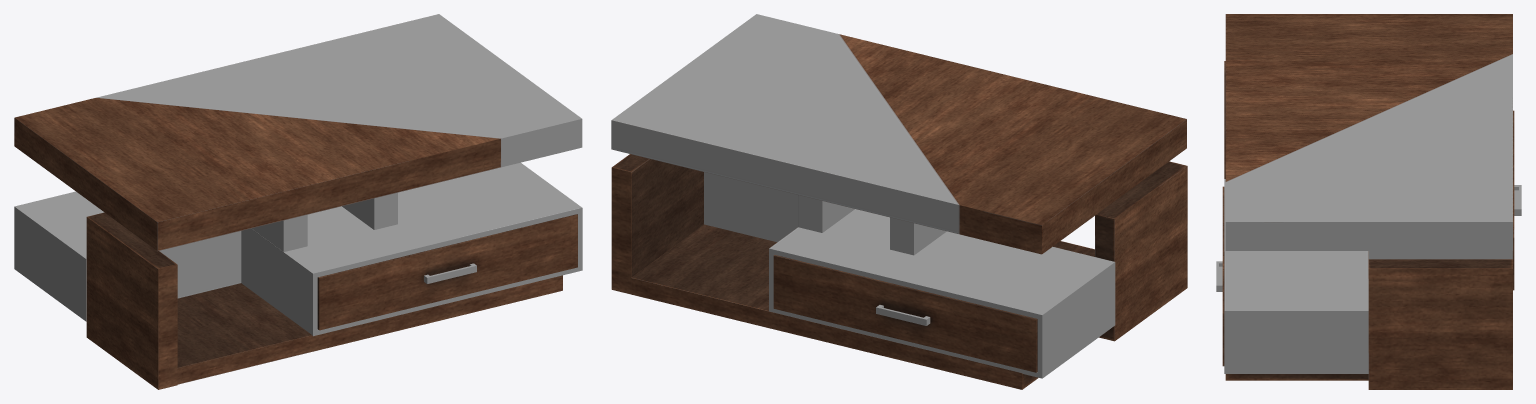
The model's file is coffee-table.glb.
3 views of the same model, side by side, from view 1: azimuth 30°, elevation 25°; view 2: azimuth 150°, elevation 25°; view 3: azimuth 270°, elevation 25° (orthographic).
Parts seen in each view (by area): view 1: coffee-table; view 2: coffee-table; view 3: coffee-table.
Part boxes in pixels (<box>): coffee-table: <box>14,14,582,389</box>; coffee-table: <box>611,14,1187,389</box>; coffee-table: <box>1216,14,1521,389</box>.
Bounding box in the file's own units: 1.38 × 0.5191 × 0.8546.
1 material, 1 textured.
